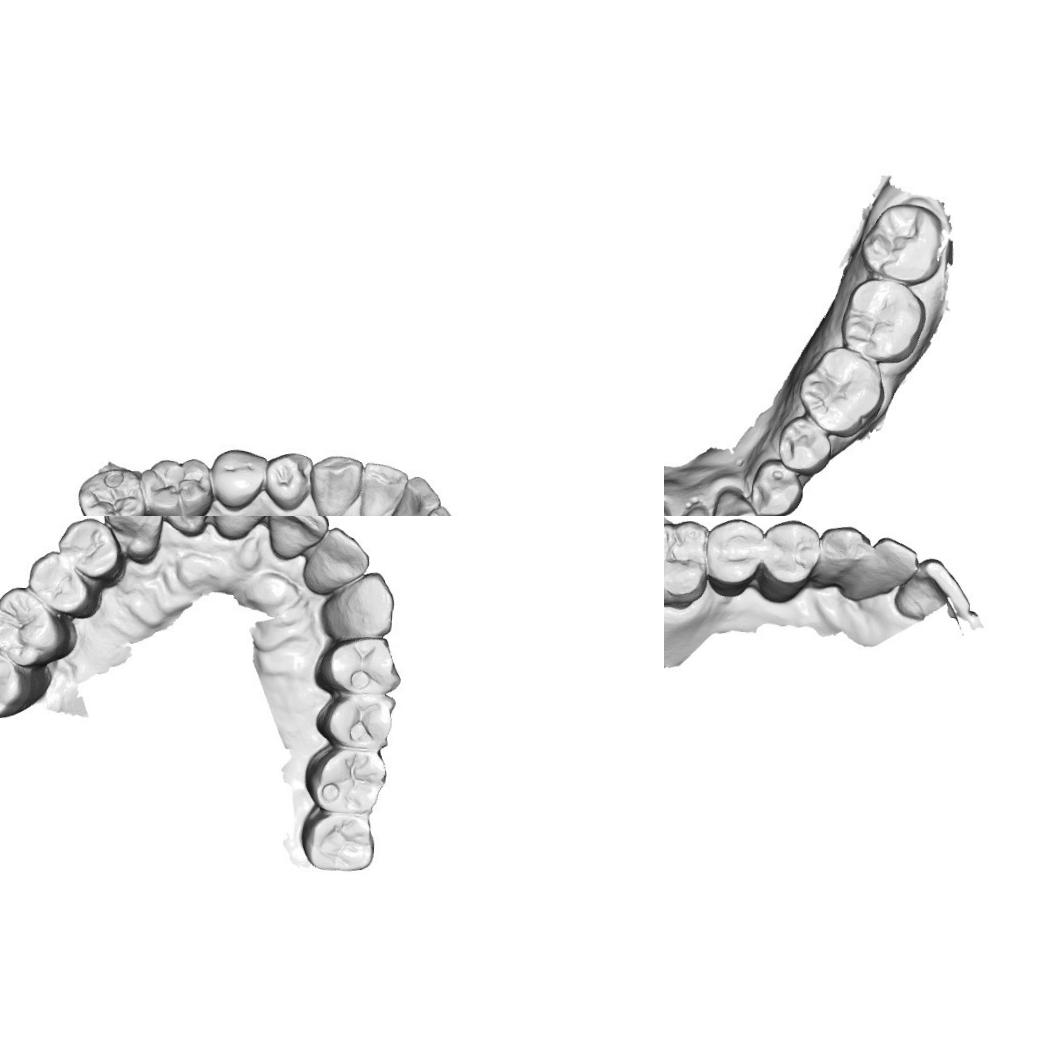canine: (314, 565, 398, 644), (809, 518, 868, 596), (304, 449, 363, 516), (104, 516, 164, 570), (712, 487, 759, 516)
incisor: (854, 532, 918, 609), (298, 528, 366, 598), (354, 461, 405, 516), (266, 516, 326, 560), (385, 472, 439, 516), (205, 516, 276, 549), (156, 516, 217, 541), (669, 493, 720, 516)
molar: (797, 345, 884, 433), (840, 278, 928, 358), (0, 582, 80, 670), (297, 741, 388, 814), (857, 198, 940, 278), (296, 798, 382, 874), (0, 636, 60, 727), (140, 453, 215, 516), (664, 516, 710, 610), (73, 462, 147, 516)
premolar: (23, 546, 107, 627), (309, 629, 404, 699), (48, 516, 130, 595), (756, 517, 819, 604), (311, 690, 401, 750), (701, 516, 764, 597), (208, 444, 268, 514), (262, 449, 314, 516), (748, 458, 801, 516), (776, 419, 831, 473)
